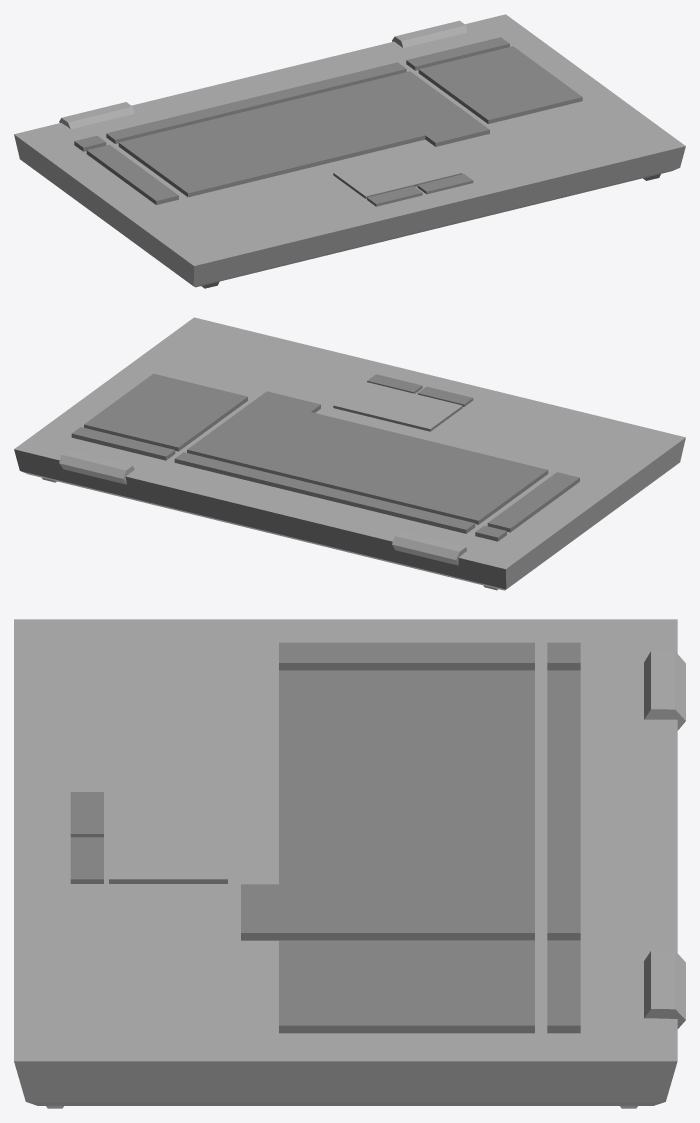
The model's file is Laptop Base.fbx.
The picture shows the model from 3 angles, top to bottom: view 1: azimuth 30°, elevation 25°; view 2: azimuth 150°, elevation 25°; view 3: azimuth 270°, elevation 25°; orthographic projection. The views are drawn at different scales.
Visible parts, largest first — view 1: Laptop Base; view 2: Laptop Base; view 3: Laptop Base.
Part boxes in pixels (x1,y1,x2,y2): Laptop Base: [14, 14, 685, 288]; Laptop Base: [14, 317, 685, 590]; Laptop Base: [14, 619, 685, 1108].
Bounding box in the file's own units: 46.7 × 3.61 × 30.01.
